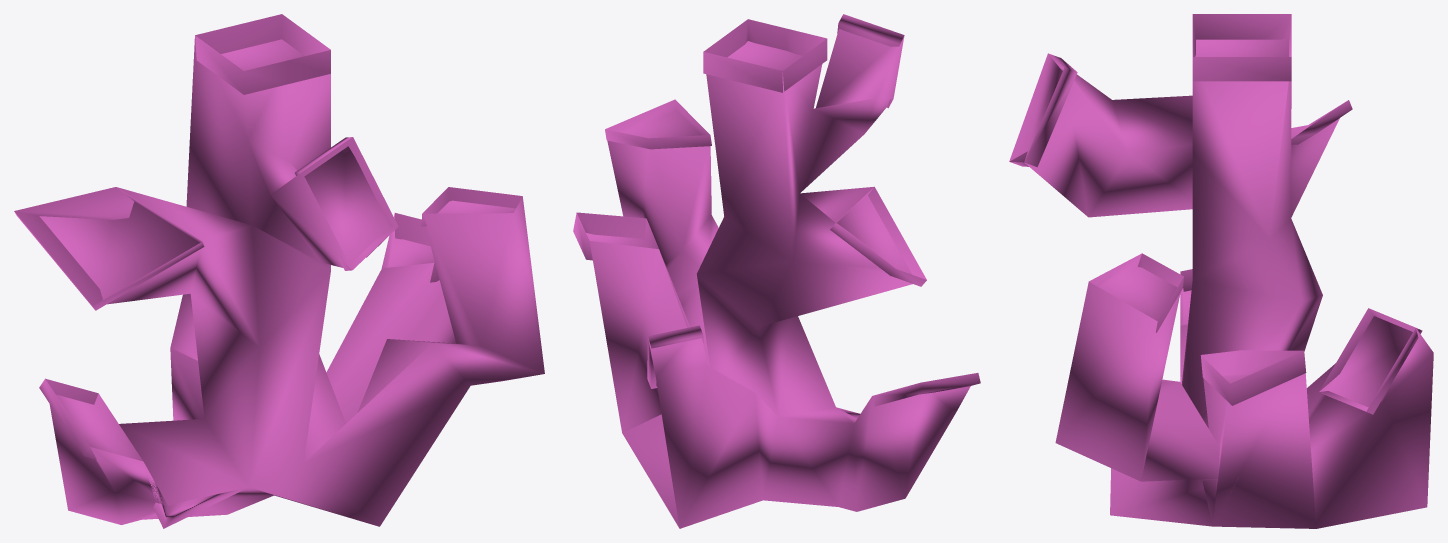
Rendered from coral4.glb.
The picture shows the model from 3 angles, left to right: view 1: azimuth 30°, elevation 25°; view 2: azimuth 150°, elevation 25°; view 3: azimuth 270°, elevation 25°; orthographic projection. The views are drawn at different scales.
Parts seen in each view (by area): view 1: Cube; view 2: Cube; view 3: Cube.
Part boxes in pixels (x1,y1,x2,y2): Cube: (14,14,544,528); Cube: (573,14,980,528); Cube: (1009,14,1433,528).
Bounding box in the file's own units: 11.34 × 12.27 × 9.68.
